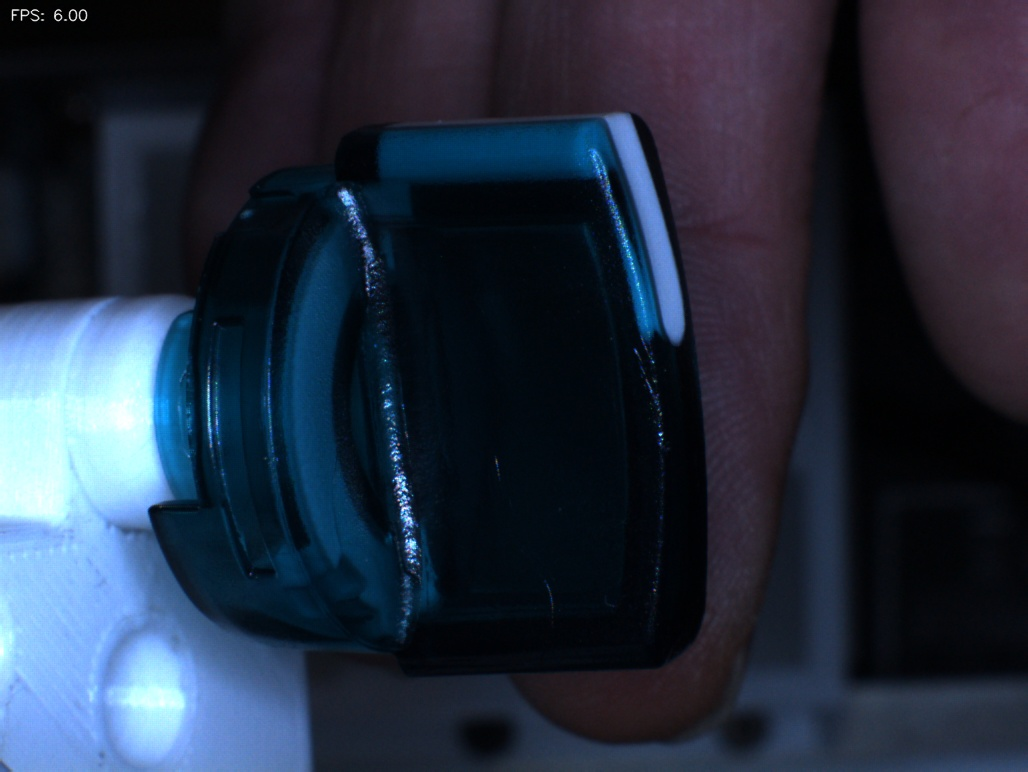Givrage: (461, 437, 577, 642)
